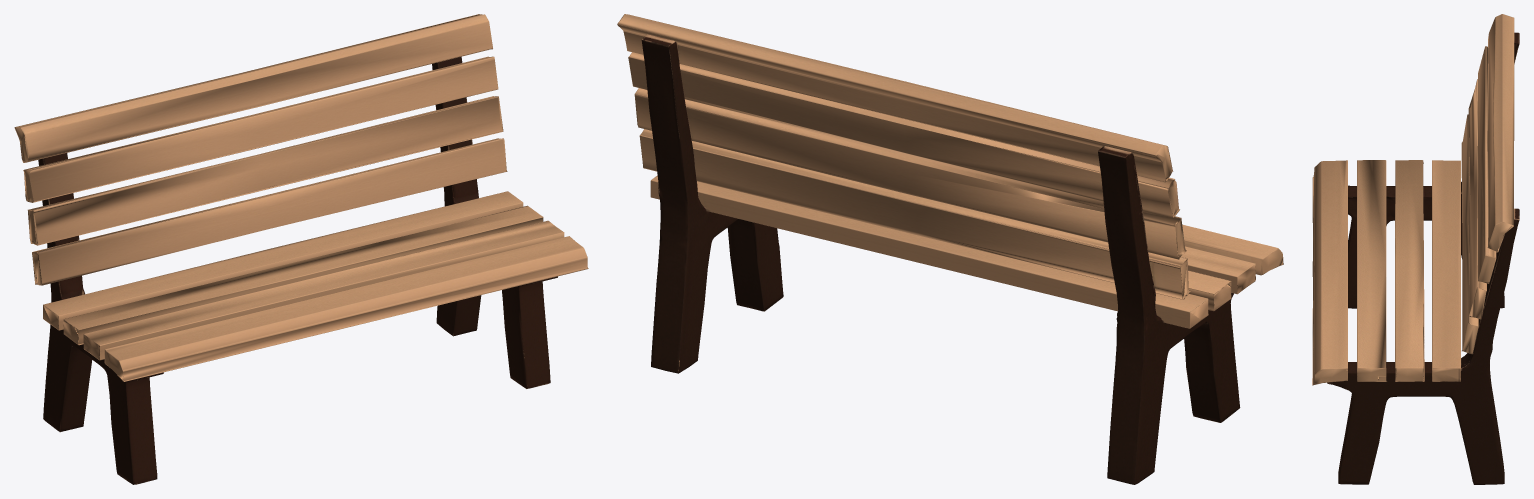
The model's file is bench.raw.glb.
3 views of the same model, side by side, from view 1: azimuth 30°, elevation 25°; view 2: azimuth 150°, elevation 25°; view 3: azimuth 270°, elevation 25° (orthographic). The views are drawn at different scales.
Bounding box in the file's own units: 0.9531 × 0.584 × 0.3994.
1 material, 1 textured.
